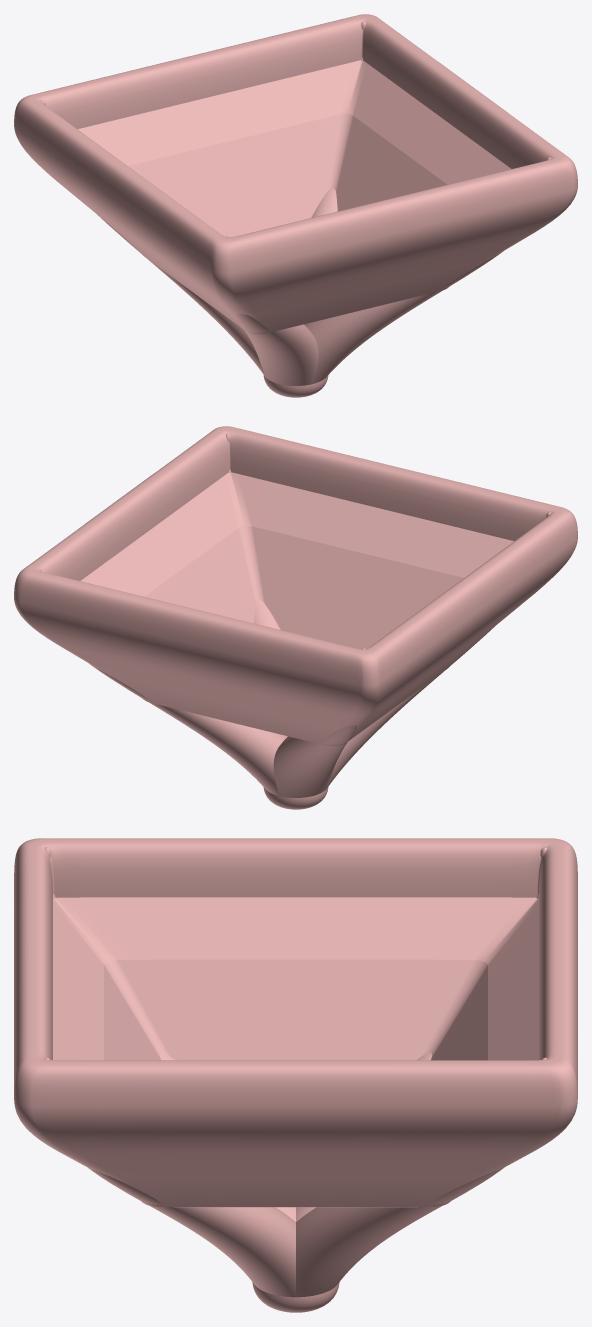
The model's file is Princess-Bezel.glb.
3 views of the same model, one above another, from view 1: azimuth 30°, elevation 25°; view 2: azimuth 150°, elevation 25°; view 3: azimuth 270°, elevation 25° (orthographic). The views are drawn at different scales.
Parts seen in each view (by area): view 1: Princess.001; view 2: Princess.001; view 3: Princess.001.
Part boxes in pixels (x1,y1,x2,y2): Princess.001: (14, 14, 577, 397); Princess.001: (14, 426, 577, 809); Princess.001: (14, 838, 577, 1312).
Size of the model in its own units: 5.8 by 4.01 by 5.8.
